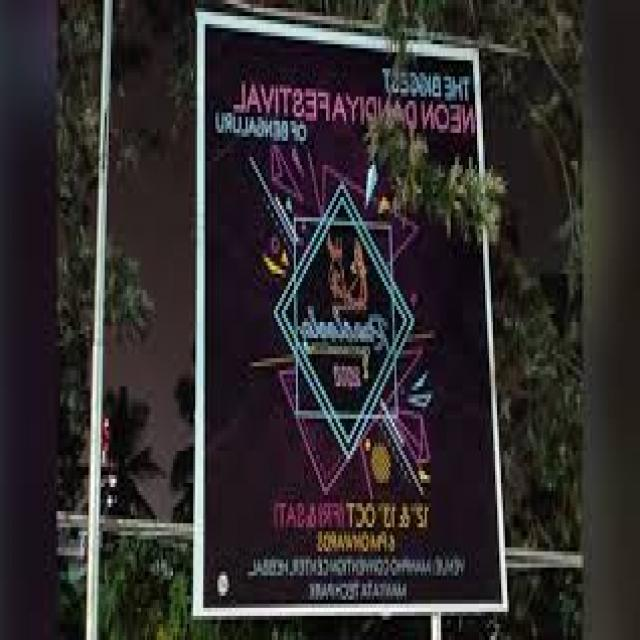Werbetafel frei: (199, 34, 497, 616)
